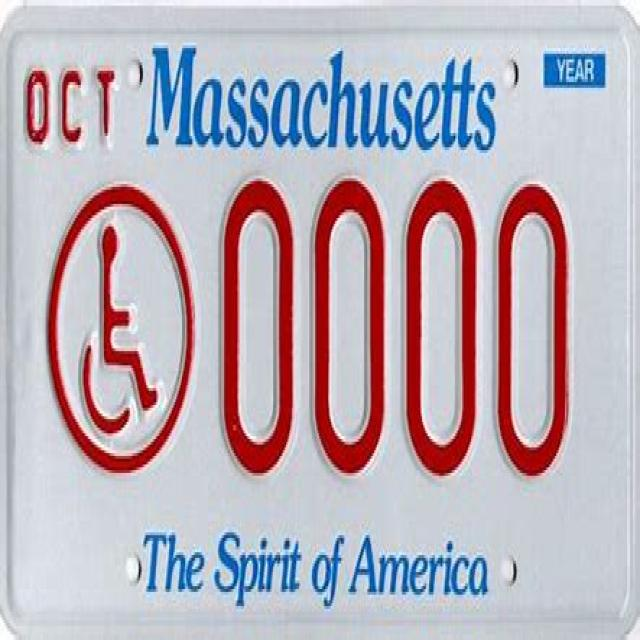car-handicap-placard: (80, 218, 160, 442)
